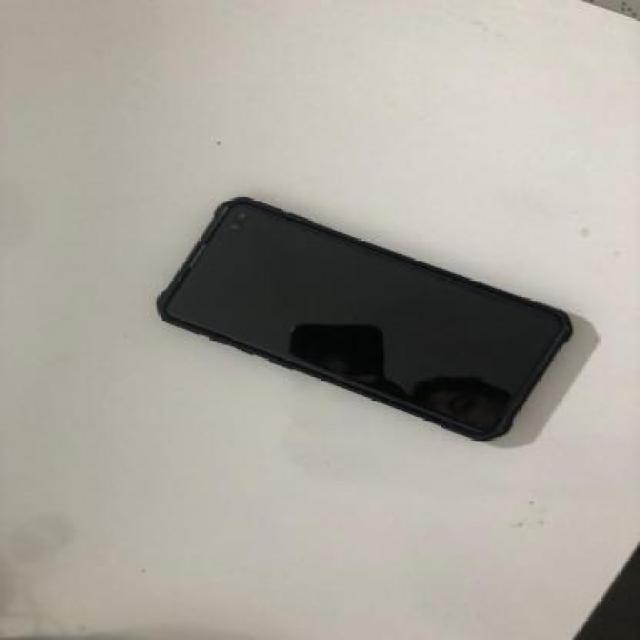phone: (155, 196, 575, 442)
